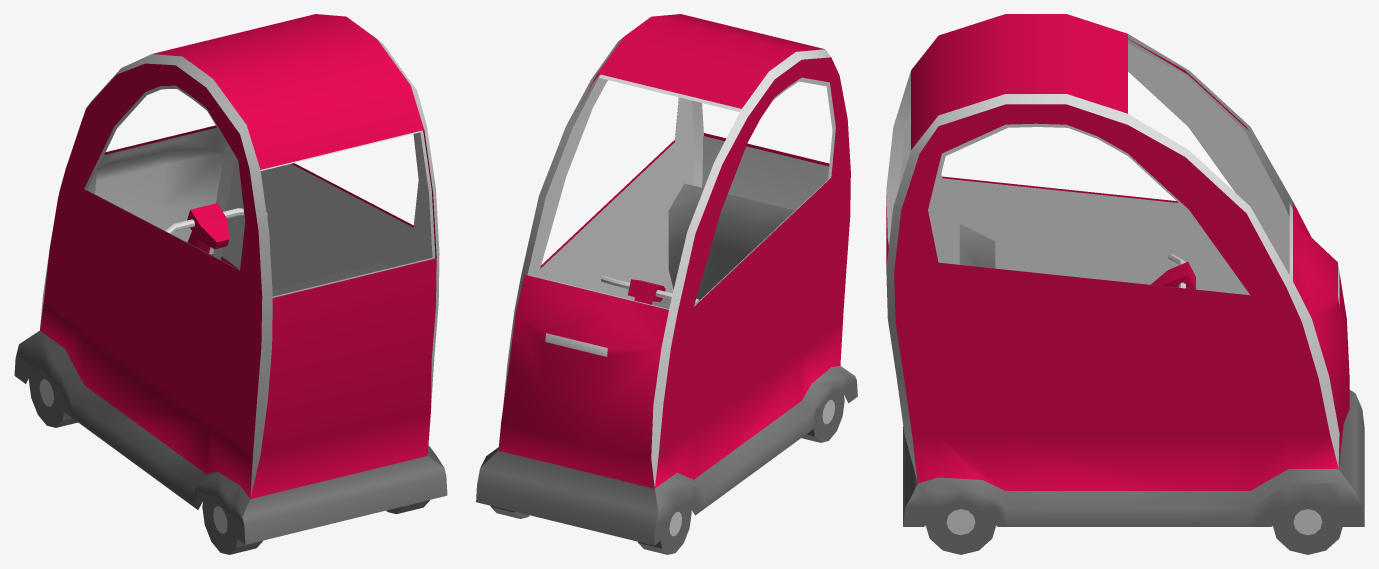
File: scooter6.fbx
3 renders of one model, left to right at view 1: azimuth 30°, elevation 25°; view 2: azimuth 150°, elevation 25°; view 3: azimuth 270°, elevation 25°, orthographic. The views are drawn at different scales.
Parts seen in each view (by area): view 1: pCube1, pCube2, pasted__pasted__pCylinder1, pasted__pasted__pCylinder5, pasted__pCube5, pasted__pasted__pCube1; view 2: pCube1, pCube2, pasted__pasted__pCube1, pasted__pasted__pCylinder5, pasted__pasted__pCylinder1, pasted__pCube5; view 3: pCube1, pCube2, pasted__pasted__pCylinder4, pasted__pasted__pCylinder6, pasted__pasted__pCube1, pasted__pCube5.
Part boxes in pixels (x1,y1,x2,y2): pCube1: [14, 14, 447, 544]; pCube2: [84, 85, 435, 297]; pasted__pasted__pCylinder1: [202, 496, 262, 554]; pasted__pasted__pCylinder5: [28, 370, 77, 427]; pasted__pCube5: [187, 203, 229, 249]; pasted__pasted__pCube1: [272, 262, 385, 296]; pCube1: [476, 14, 857, 545]; pCube2: [524, 74, 835, 309]; pasted__pasted__pCube1: [652, 183, 794, 308]; pasted__pasted__pCylinder5: [638, 504, 691, 554]; pasted__pasted__pCylinder1: [801, 391, 844, 442]; pasted__pCube5: [628, 279, 665, 301]; pCube1: [886, 14, 1364, 526]; pCube2: [891, 39, 1292, 295]; pasted__pasted__pCylinder4: [925, 500, 995, 554]; pasted__pasted__pCylinder6: [1273, 503, 1342, 554]; pasted__pasted__pCube1: [959, 224, 995, 268]; pasted__pCube5: [1150, 262, 1195, 289].
Bounding box in the file's own units: 15 × 32.19 × 30.76.
